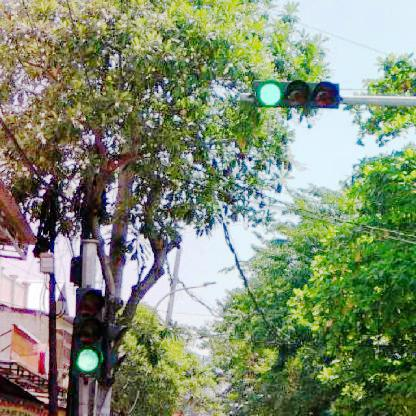Traffic Light -Green-: (254, 78, 344, 110), (73, 288, 103, 378)
